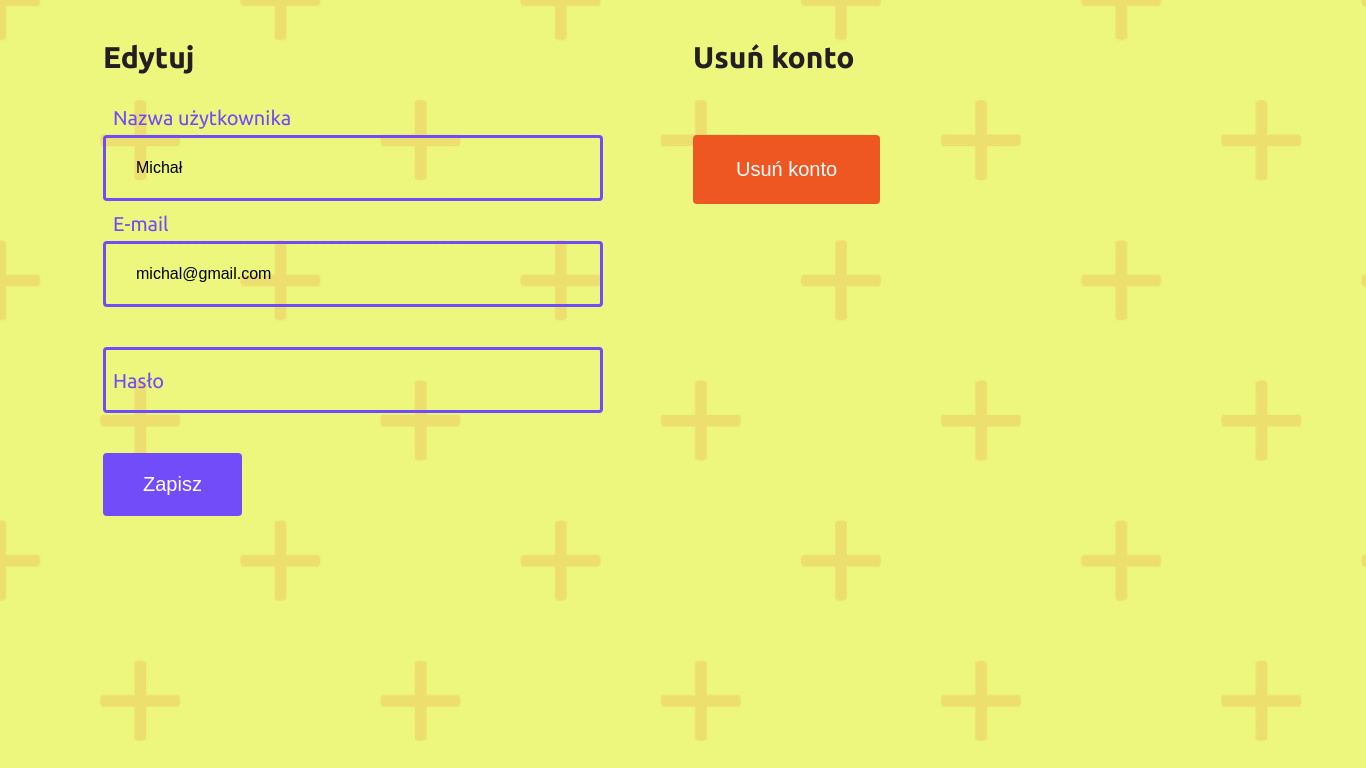
Test: Settings page › should display errors if nickname or email are null
The image size is (1366, 768).
Clear the field named "nickname" at (353, 168), box left=103, top=135, right=603, bottom=201
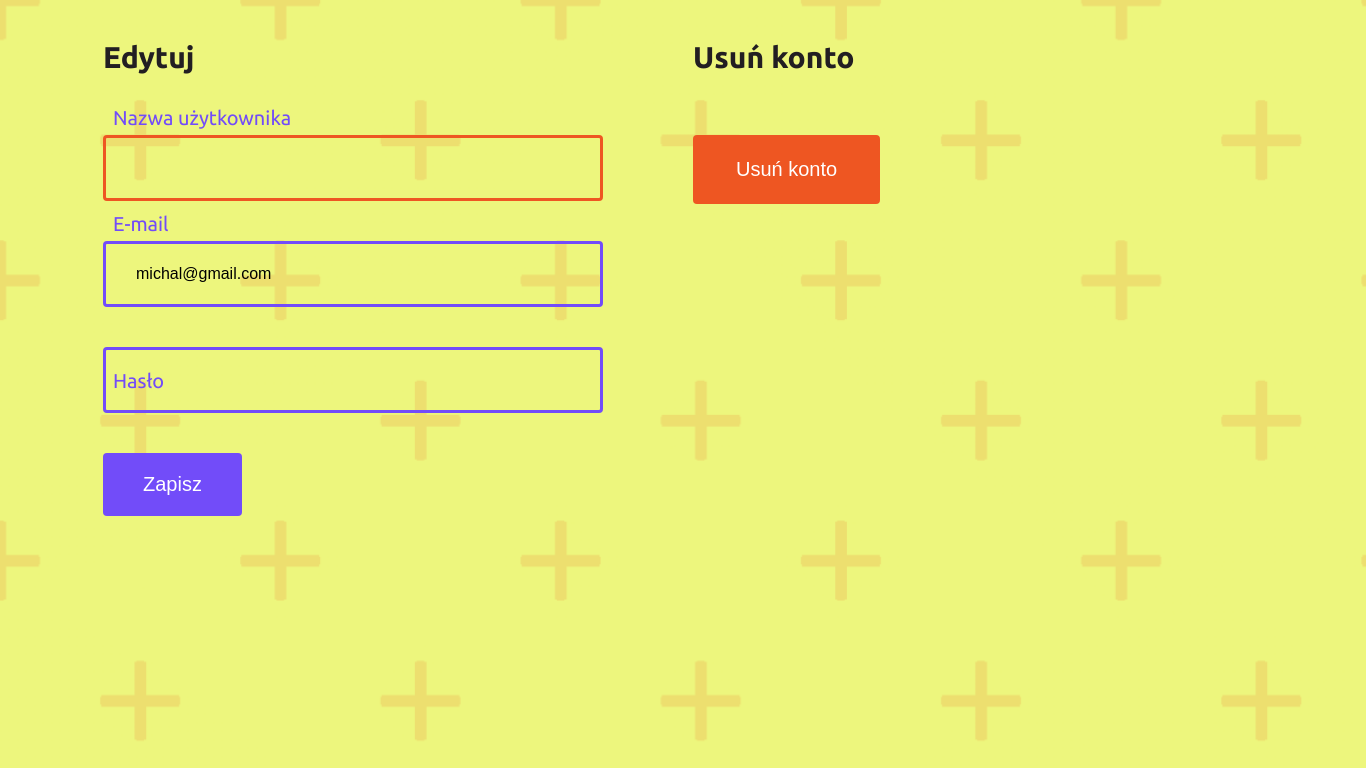
Clear the field named "email" at (353, 274), box left=103, top=241, right=603, bottom=307
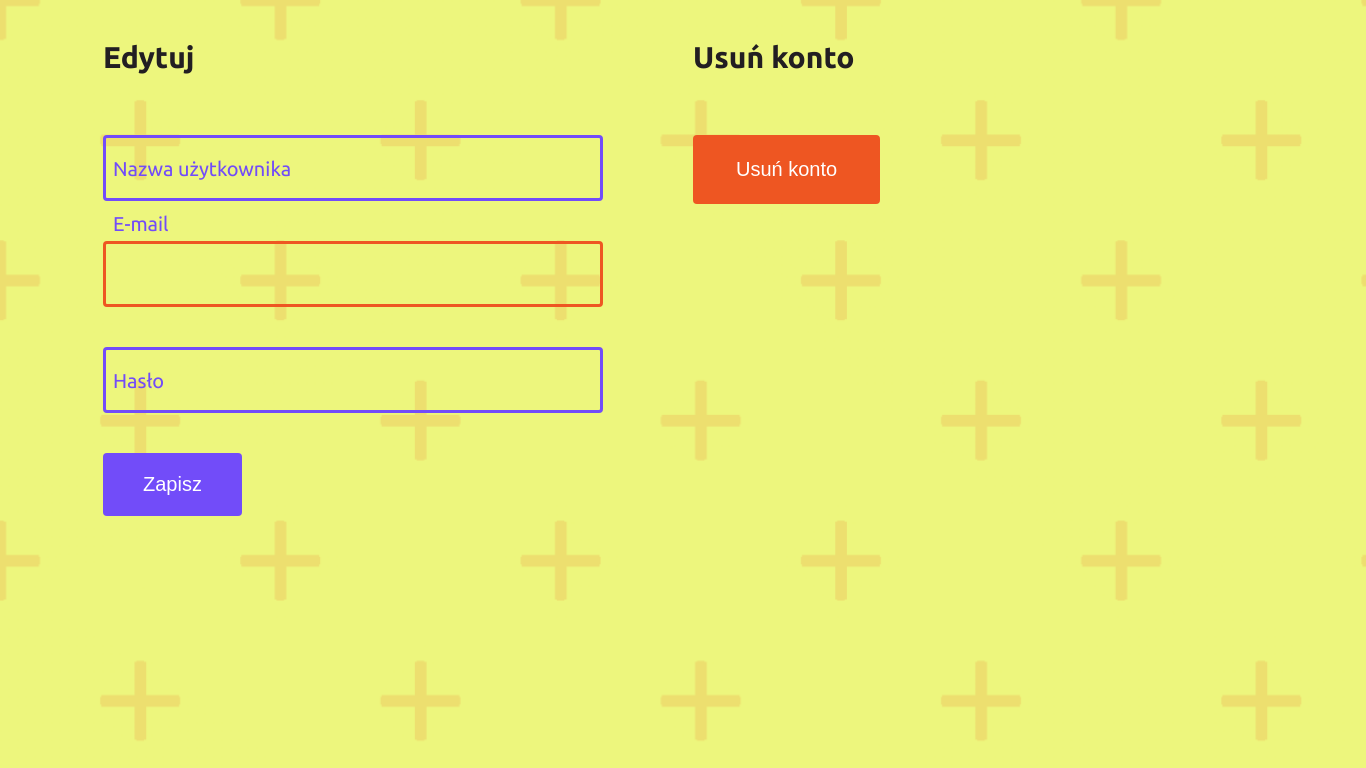
Click the submit button at (173, 485), box left=103, top=453, right=242, bottom=516
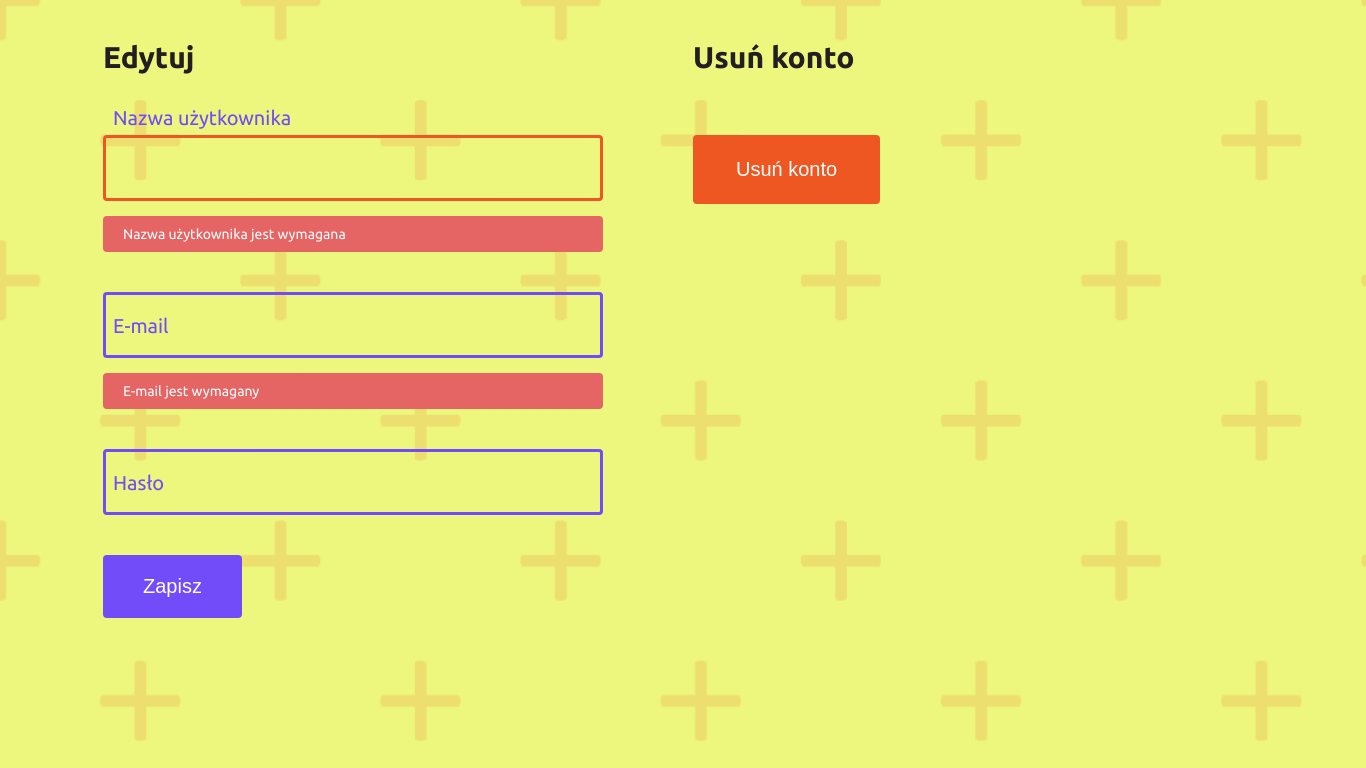
Expected: the text "Nazwa użytkownika jest wymagana" is shown, left=103, top=216, right=603, bottom=252
Expected: the text "E-mail jest wymagany" is shown, left=103, top=373, right=603, bottom=409
